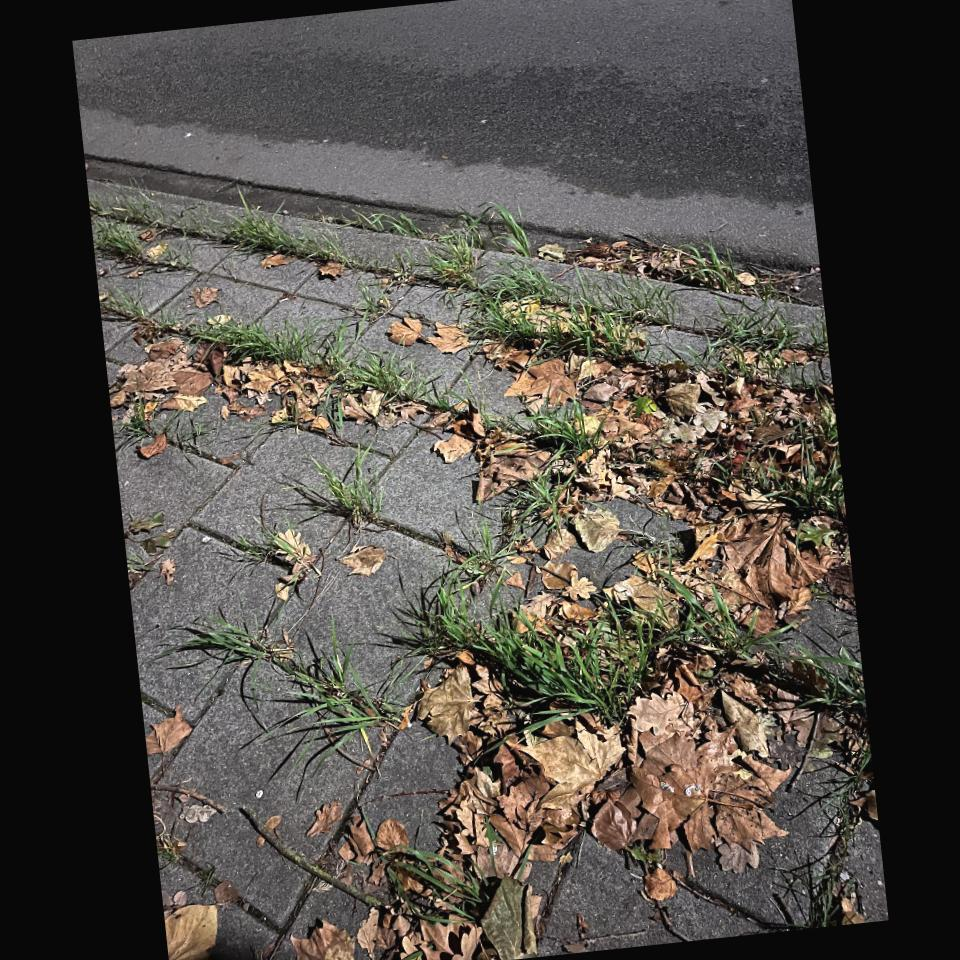weed: (409, 547, 868, 740), (99, 274, 417, 405), (419, 212, 675, 363), (209, 617, 399, 755), (805, 669, 873, 928), (744, 433, 848, 546), (504, 407, 589, 535), (198, 210, 323, 266), (713, 309, 789, 356), (321, 465, 377, 528), (685, 240, 727, 297)
